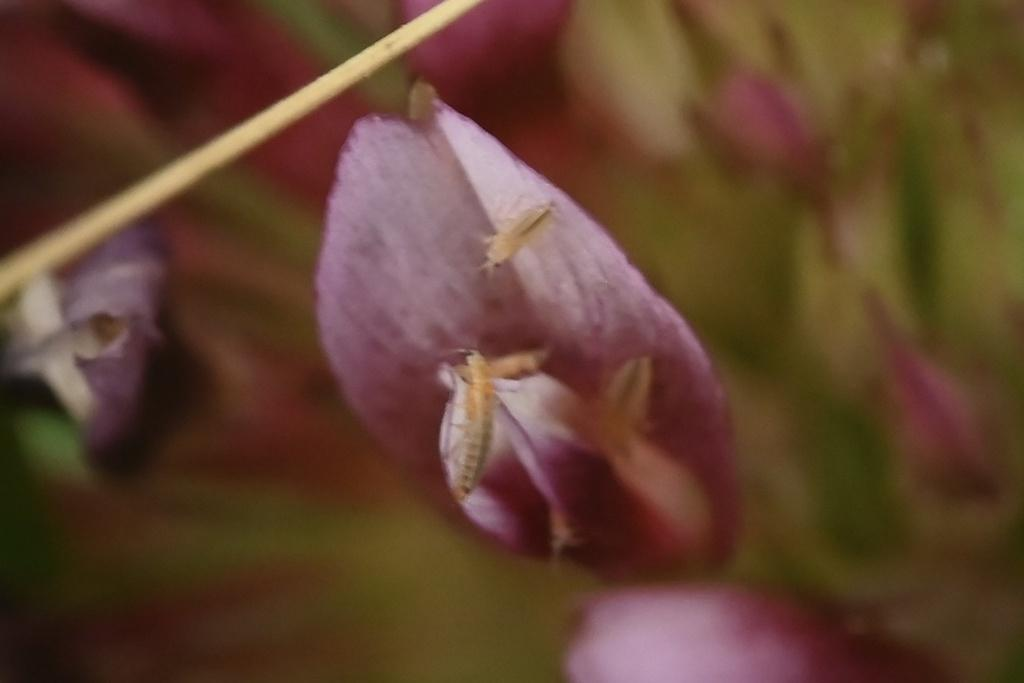tiny_pests: (405, 323, 545, 516), (436, 173, 593, 304)
